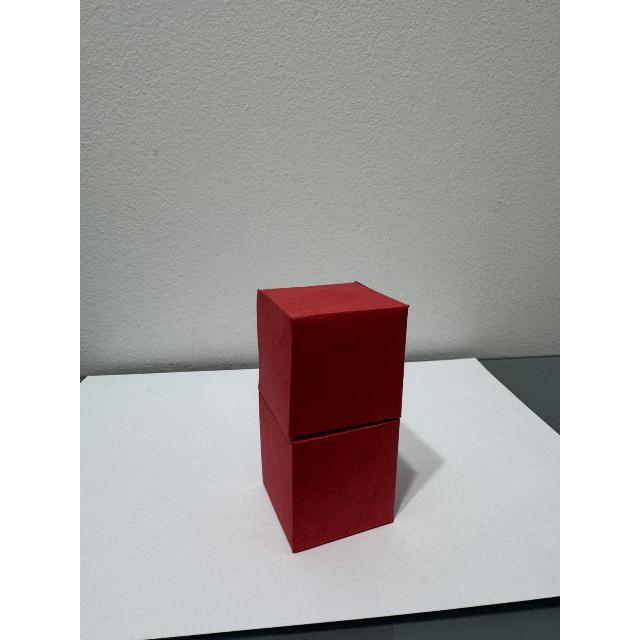red_cube: (247, 275, 433, 563)
